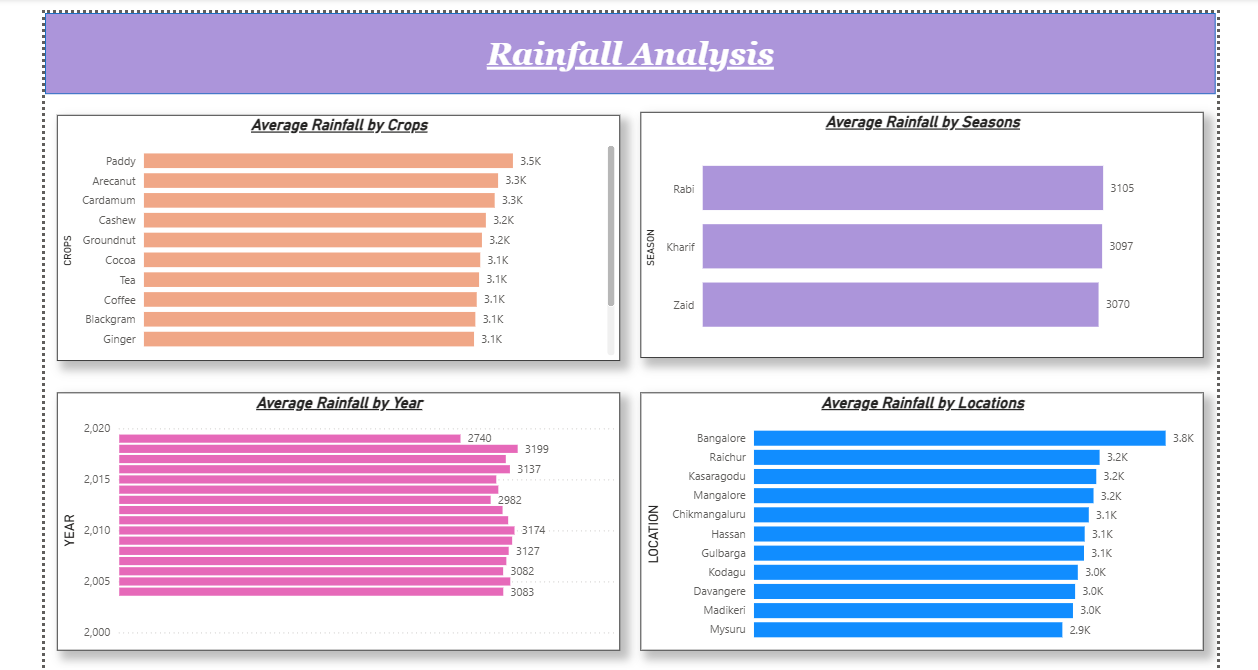

What the dashboard file says about the page in this screenshot:
{"tool":"powerbi","page":{"name":"Rainfall Analysis","canvas":[1280,720],"ordinal":0},"visuals":[{"type":"shape","box":[0,0,1279.4,88.8],"z":0},{"type":"barChart","title":"Average Rainfall by Crops","fields":{"Y":["Avg(AGRICULTURE.RAINFALL)"],"Category":["AGRICULTURE.CROPS"]},"box":[13.3,111.1,615.6,268.9],"z":1},{"type":"barChart","title":"Average Rainfall by Seasons","fields":{"Y":["Avg(AGRICULTURE.RAINFALL)"],"Category":["AGRICULTURE.SEASON"]},"box":[651.1,108.9,615.6,268.9],"z":2},{"type":"barChart","title":"Average Rainfall by Year","fields":{"Y":["Avg(AGRICULTURE.RAINFALL)"],"Category":["AGRICULTURE.YEAR"]},"box":[13.3,415.6,615.6,282.2],"z":3},{"type":"barChart","title":"Average Rainfall by Locations","fields":{"Y":["Avg(AGRICULTURE.RAINFALL)"],"Category":["AGRICULTURE.LOCATION"]},"box":[651.1,415.6,615.6,282.2],"z":4}]}

Visuals, with their boxes on the page's 1280x720 design canvas (x1, y1, x2, y2). These are canvas units, not pixel positions in the 1258x670 screenshot, which may show the page scaled, cropped or inside an application window:
shape: region(0, 0, 1279, 89)
"Average Rainfall by Crops" barChart: region(13, 111, 629, 380)
"Average Rainfall by Seasons" barChart: region(651, 109, 1267, 378)
"Average Rainfall by Year" barChart: region(13, 416, 629, 698)
"Average Rainfall by Locations" barChart: region(651, 416, 1267, 698)
